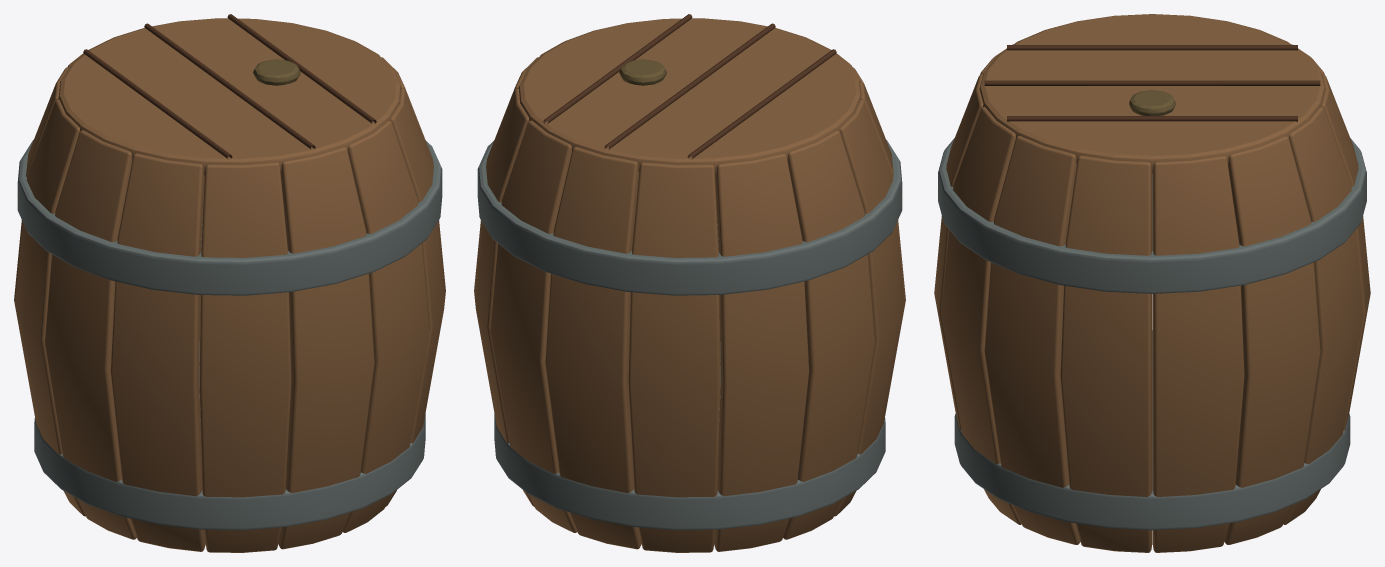
Rendered from barrel.glb.
3 views of the same model, side by side, from view 1: azimuth 30°, elevation 25°; view 2: azimuth 150°, elevation 25°; view 3: azimuth 270°, elevation 25° (orthographic).
Visible parts, largest first — view 1: Oak_lid, Barrel_stave.009, Barrel_stave.008, Barrel_stave.010, Barrel_stave.007, Forged_barrel_band.001, Barrel_stave.011, Forged_barrel_band, Barrel_stave.006, Barrel_stave.012, Lid_plank_seam.001, Lid_plank_seam (+3 smaller); view 2: Oak_lid, Barrel_stave.004, Barrel_stave.005, Barrel_stave.003, Barrel_stave.006, Forged_barrel_band.001, Barrel_stave.002, Forged_barrel_band, Barrel_stave.007, Barrel_stave.001, Lid_plank_seam.001, Lid_plank_seam (+3 smaller); view 3: Oak_lid, Barrel_stave, Barrel_stave.013, Barrel_stave.001, Barrel_stave.012, Forged_barrel_band.001, Forged_barrel_band, Barrel_stave.002, Barrel_stave.011, Barrel_stave.003, Barrel_stave.010, Lid_plank_seam.001 (+3 smaller).
Part boxes in pixels (<box>): Oak_lid: <box>58,18,401,175</box>; Barrel_stave.009: <box>199,162,291,552</box>; Barrel_stave.008: <box>110,153,205,551</box>; Barrel_stave.010: <box>278,147,374,549</box>; Barrel_stave.007: <box>44,130,136,539</box>; Forged_barrel_band.001: <box>17,140,442,295</box>; Barrel_stave.011: <box>342,120,429,532</box>; Forged_barrel_band: <box>34,342,425,530</box>; Barrel_stave.006: <box>14,99,85,516</box>; Barrel_stave.012: <box>385,88,445,506</box>; Lid_plank_seam.001: <box>144,23,315,149</box>; Lid_plank_seam: <box>83,49,232,159</box>; Oak_lid: <box>518,18,861,175</box>; Barrel_stave.004: <box>628,162,720,552</box>; Barrel_stave.005: <box>714,153,809,551</box>; Barrel_stave.003: <box>545,147,641,549</box>; Barrel_stave.006: <box>783,130,875,539</box>; Forged_barrel_band.001: <box>477,140,902,295</box>; Barrel_stave.002: <box>490,120,577,532</box>; Forged_barrel_band: <box>494,342,885,530</box>; Barrel_stave.007: <box>834,99,905,516</box>; Barrel_stave.001: <box>474,88,534,506</box>; Lid_plank_seam.001: <box>604,23,775,149</box>; Lid_plank_seam: <box>687,49,836,159</box>; Oak_lid: <box>979,14,1325,173</box>; Barrel_stave: <box>1152,155,1244,552</box>; Barrel_stave.013: <box>1060,155,1152,552</box>; Barrel_stave.001: <box>1224,136,1320,544</box>; Barrel_stave.012: <box>984,136,1080,544</box>; Forged_barrel_band.001: <box>938,138,1366,293</box>; Forged_barrel_band: <box>954,330,1350,530</box>; Barrel_stave.002: <box>1283,107,1363,524</box>; Barrel_stave.011: <box>941,107,1021,524</box>; Barrel_stave.003: <box>1319,74,1370,492</box>; Barrel_stave.010: <box>934,74,985,492</box>; Lid_plank_seam.001: <box>984,80,1320,85</box>.
Size of the model in its own units: 1.04 by 1.07 by 1.04.
